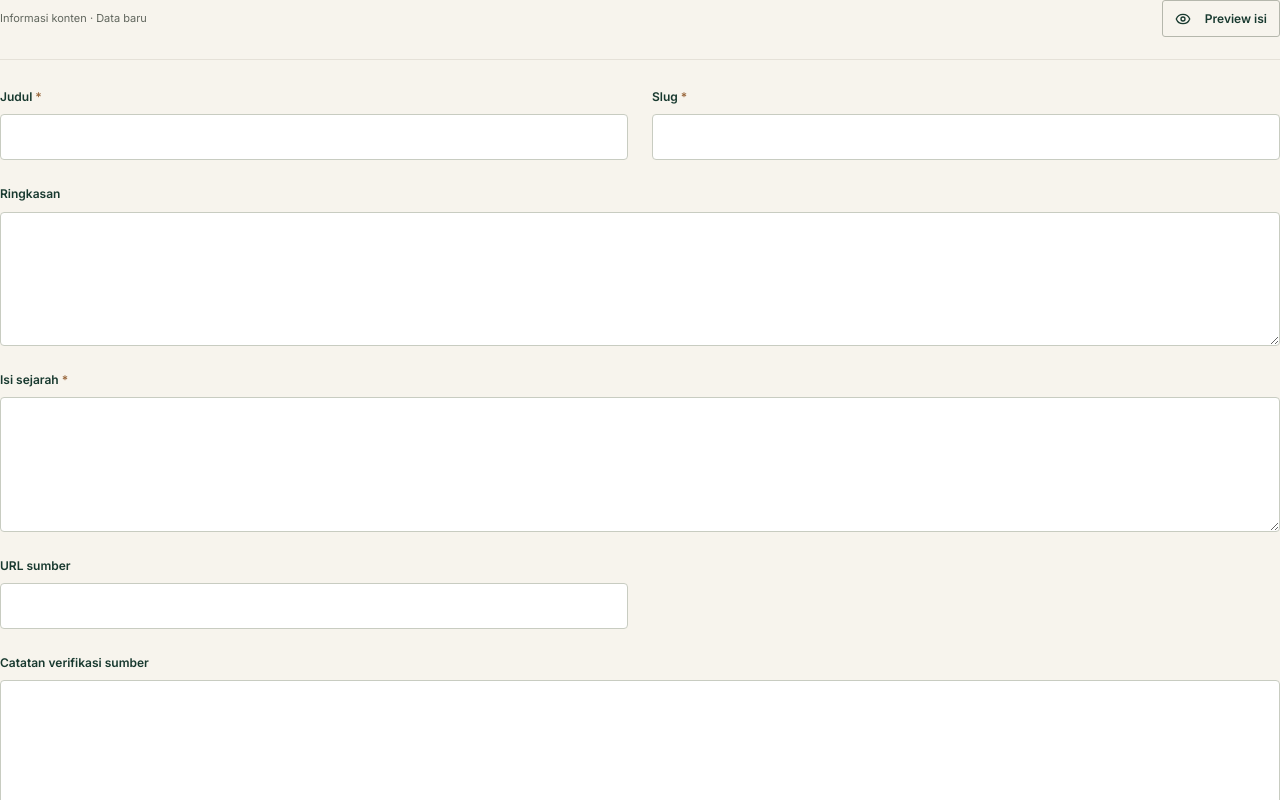
Scenario: form mengirim draft ke Server Action dan memakai ID tersimpan pada perubahan berikutnya
Later steps or results of the test are not shown.
Type "Narasi yang diperiksa" into the field labelled "Judul". click: (314, 137)
box: [0,114,628,160]
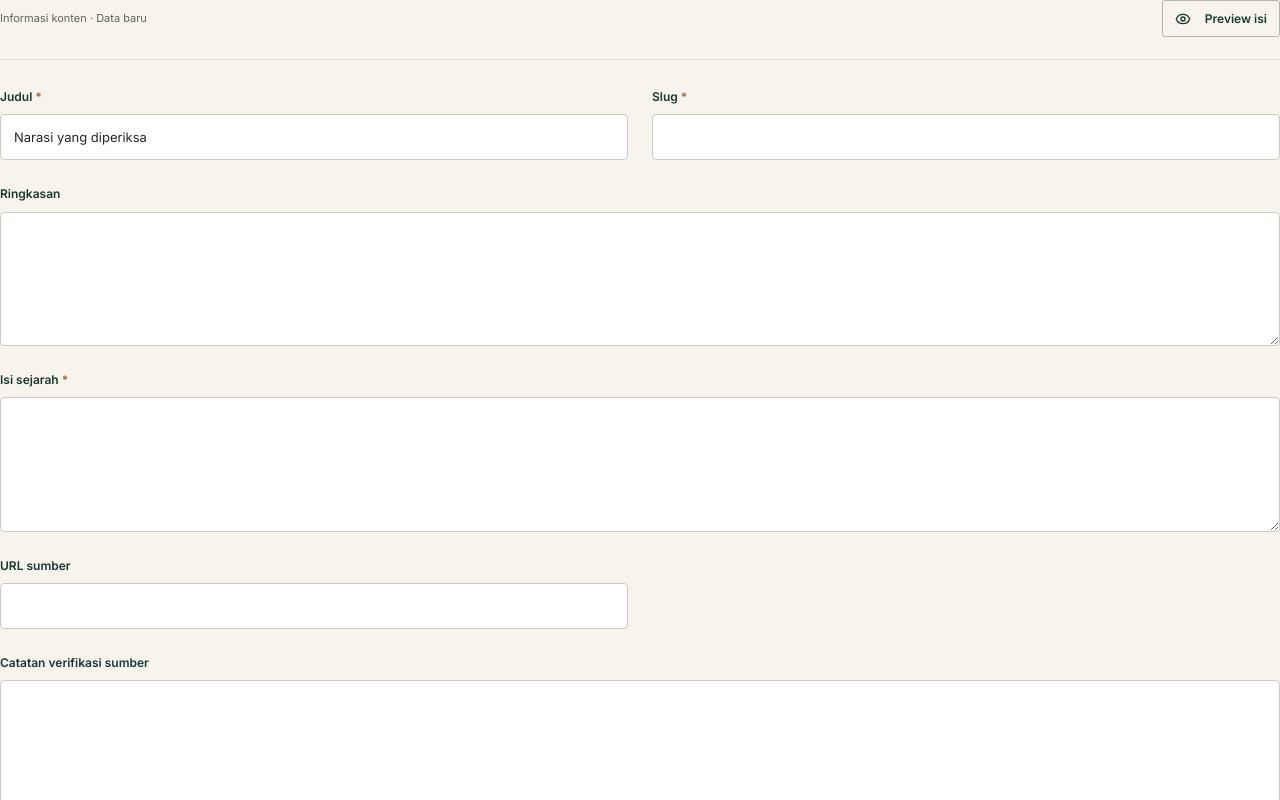
Type "narasi-diperiksa" into the field labelled "Slug". click: (966, 137)
box: [652,114,1279,160]
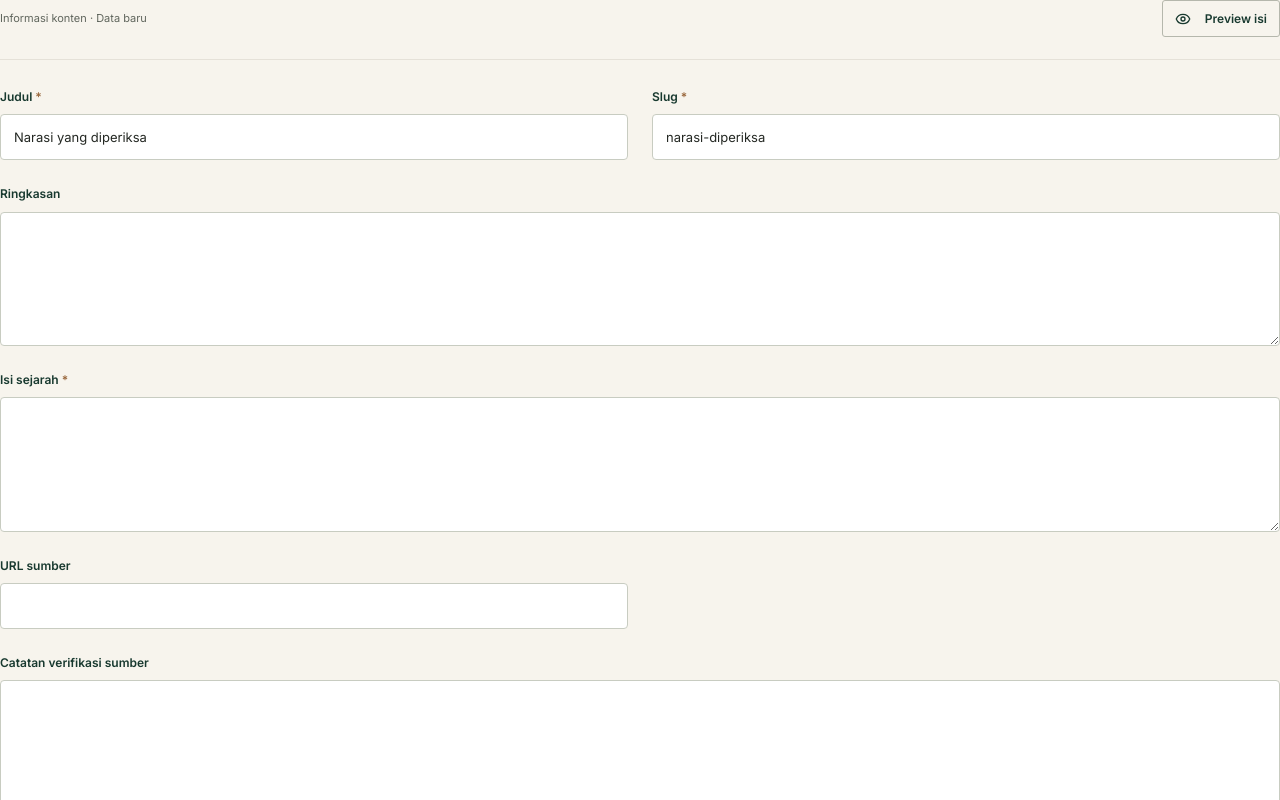
Type "Teks sejarah untuk pengujian form." into the text box labelled "Isi sejarah". click: (640, 465)
box: [0,397,1279,532]
(page scrolled)
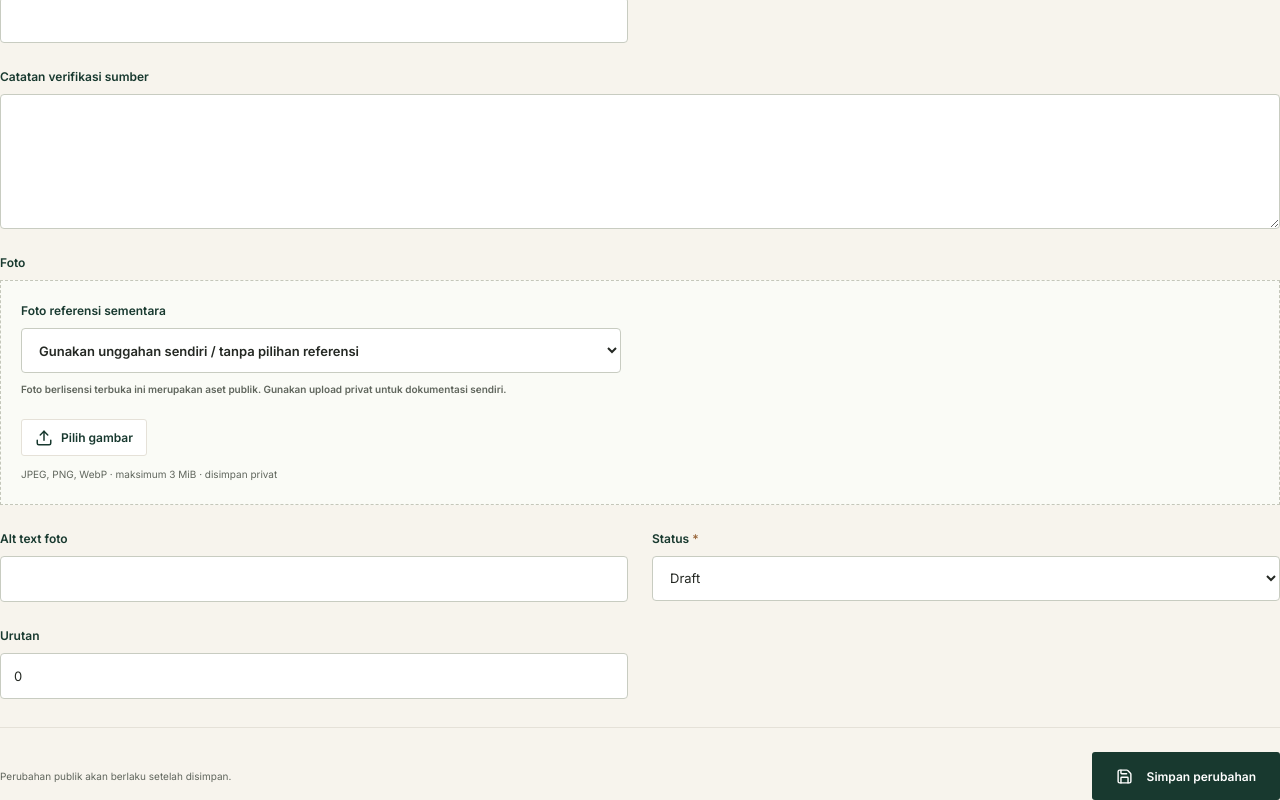
Click the button "Simpan perubahan". click: (1186, 776)
box: [1092,752,1279,799]
(page scrolled)
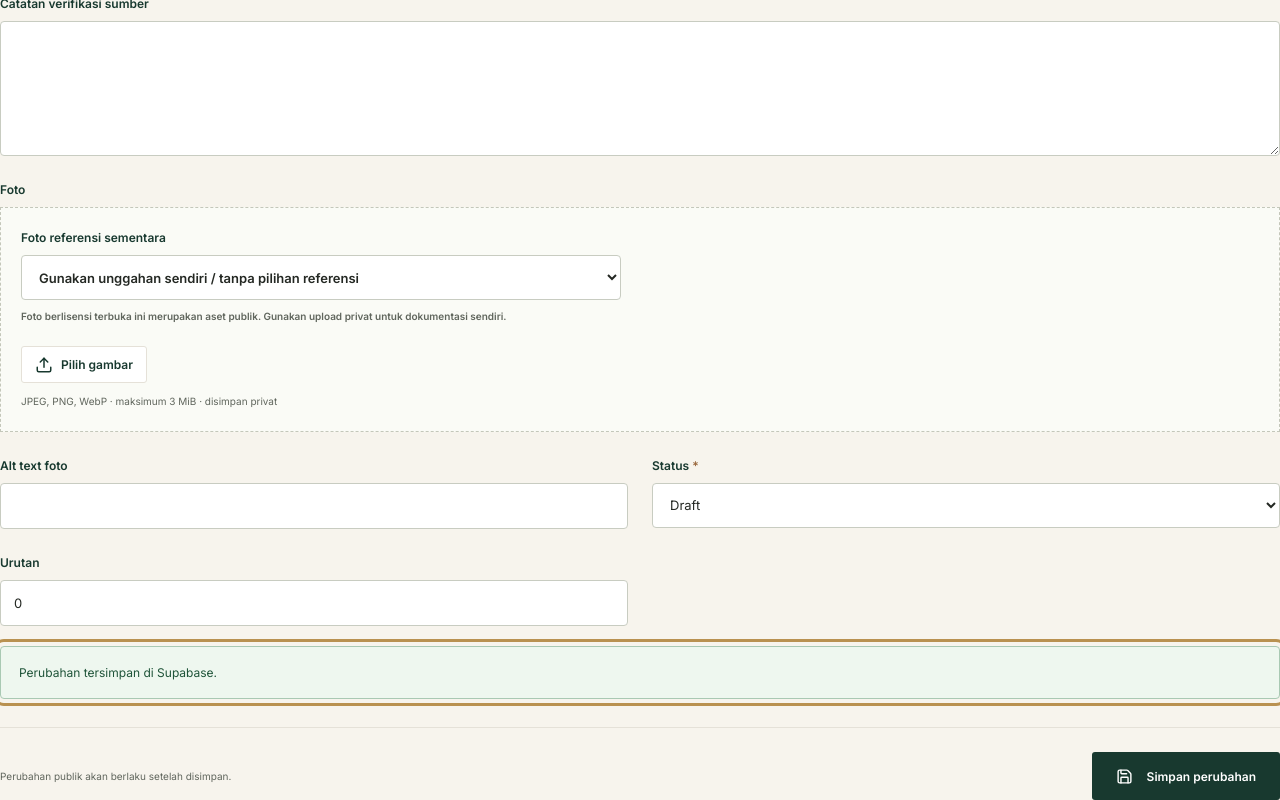
Result: the message shows "tersimpan di Supabase" at [19,665,217,680]
